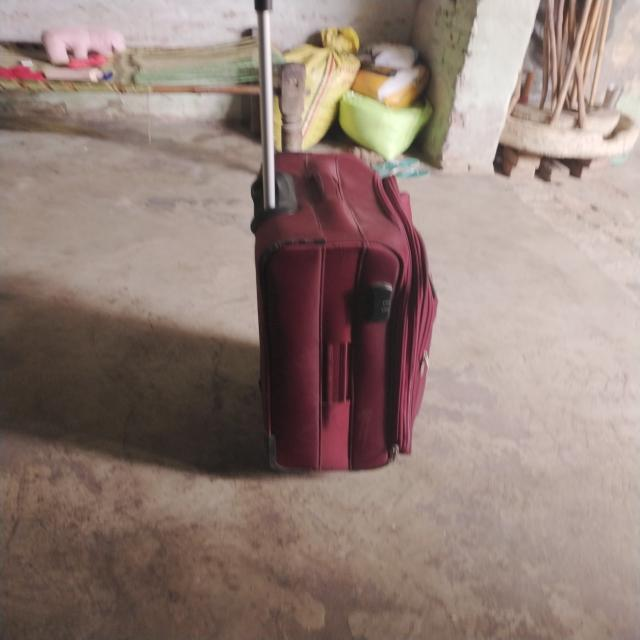suitcaserotation: (245, 0, 441, 476)
